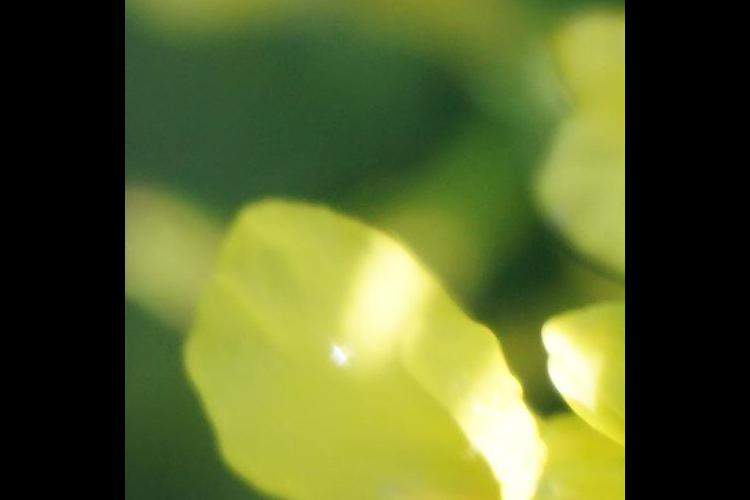yellow: (220, 201, 620, 500)
